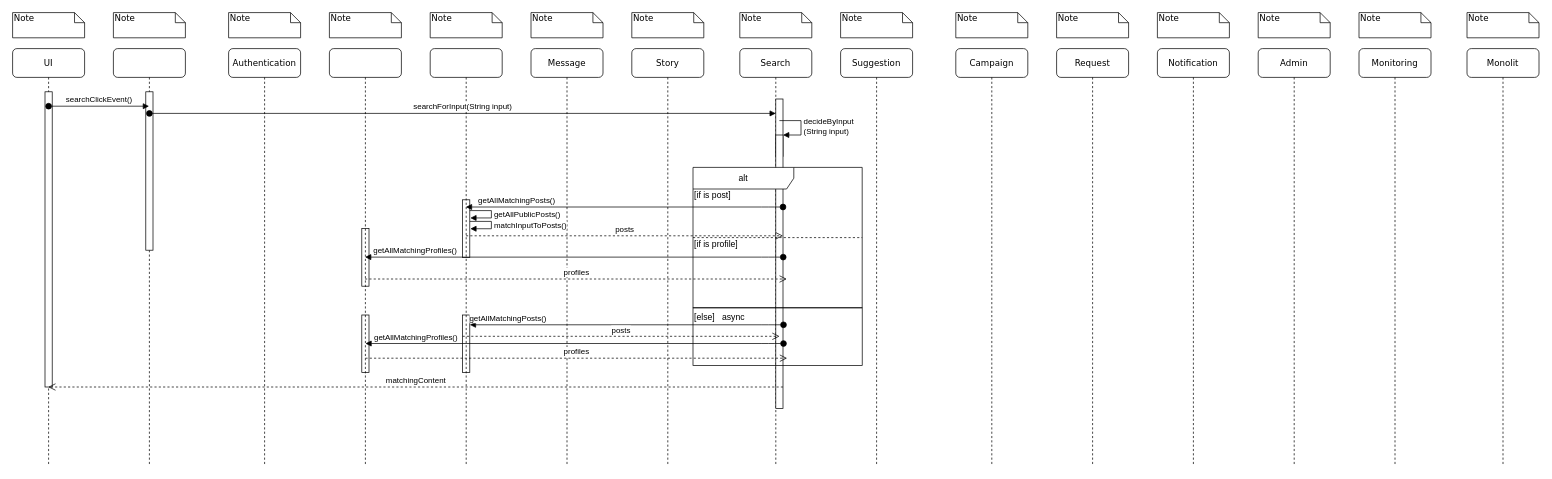
This 1552x479 diagram has some shape labels left out. Here are the shapes that lost their labels. From the top down, the centre of each, then its label:
(149,257): API GATEWAY
(365,257): Profile
(465,257): Post
